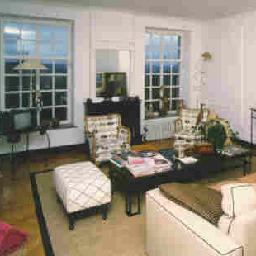Cama: (145, 178, 252, 254), (110, 141, 249, 188)
